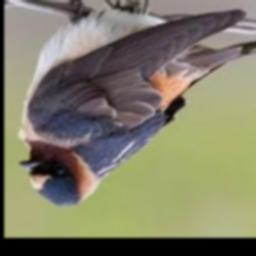Swallow: (18, 7, 256, 207)
